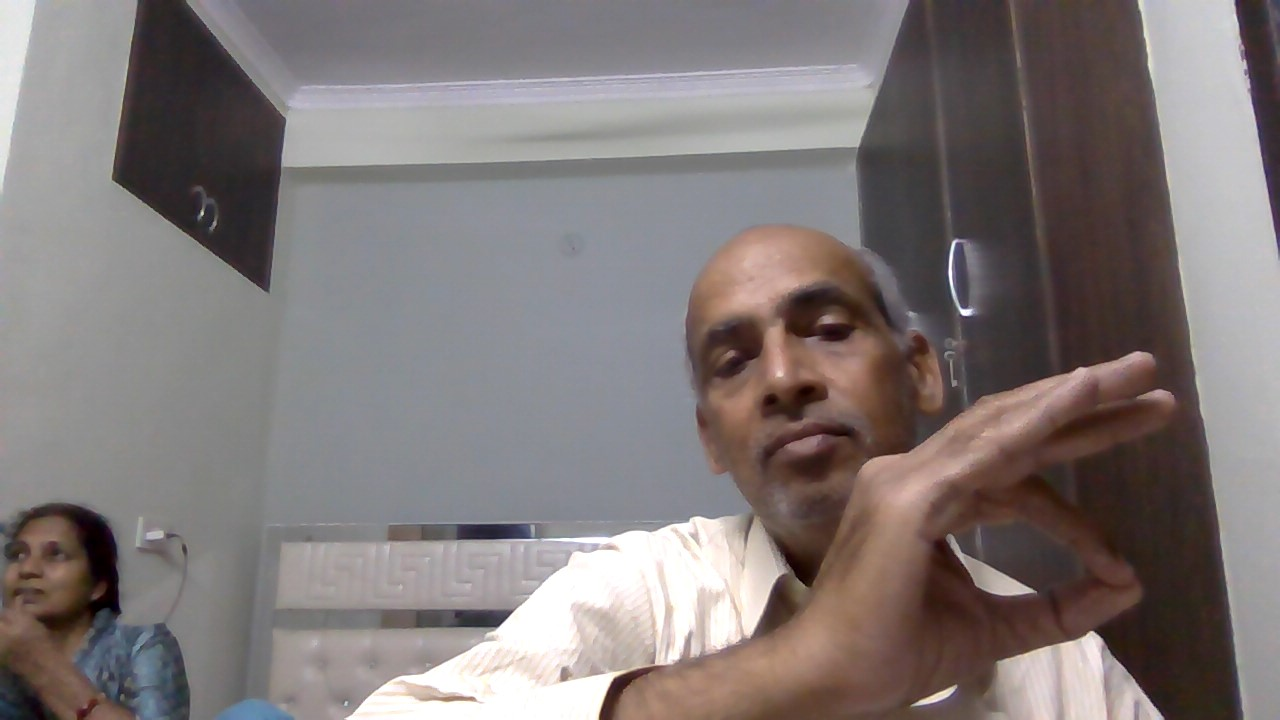Copy: (804, 339, 1192, 708)
